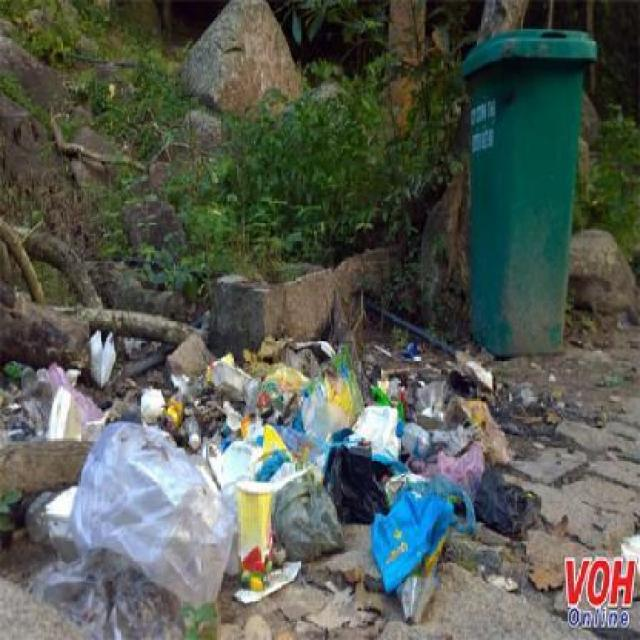plastic bag: (37, 304, 523, 634), (37, 408, 258, 614), (374, 468, 463, 617), (269, 465, 342, 569)
